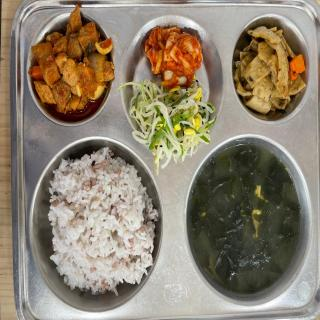Nasi: (48, 149, 159, 298)
